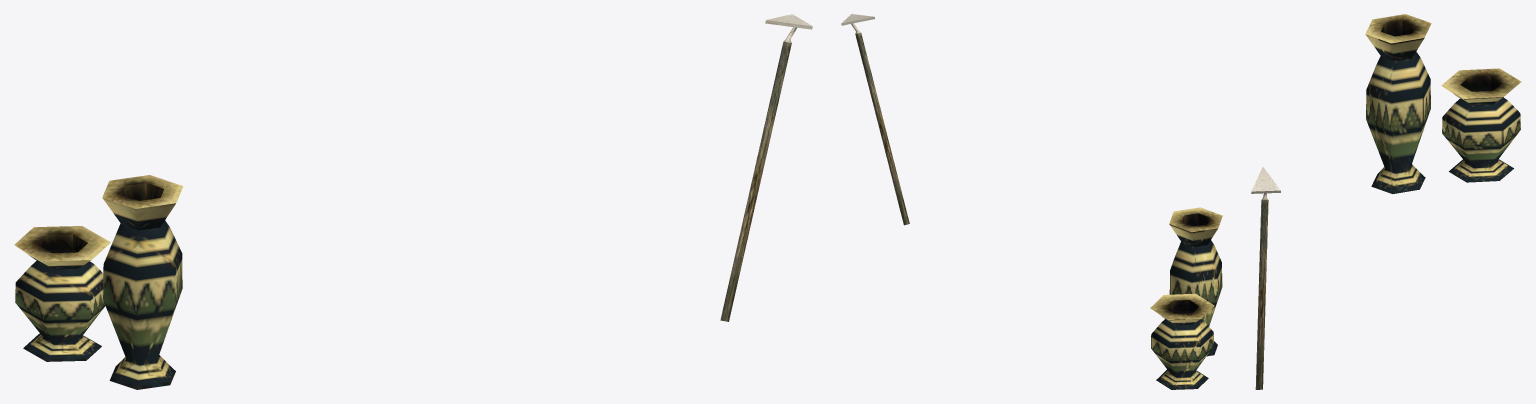
File: kart_farmstead_a_1.glb
3 renders of one model, left to right at view 1: azimuth 30°, elevation 25°; view 2: azimuth 150°, elevation 25°; view 3: azimuth 270°, elevation 25°, orthographic. The views are drawn at different scales.
Visible parts, largest first — view 1: Object11-Pivot; view 2: Object11-Pivot; view 3: Object11-Pivot.
Part boxes in pixels (bbox=[...]): Object11-Pivot: bbox=[14, 14, 812, 389]; Object11-Pivot: bbox=[841, 14, 1222, 389]; Object11-Pivot: bbox=[1251, 14, 1521, 389].
Bounding box in the file's own units: 7.2 × 3.05 × 3.11.
Materials: 1 (1 with a texture image).
